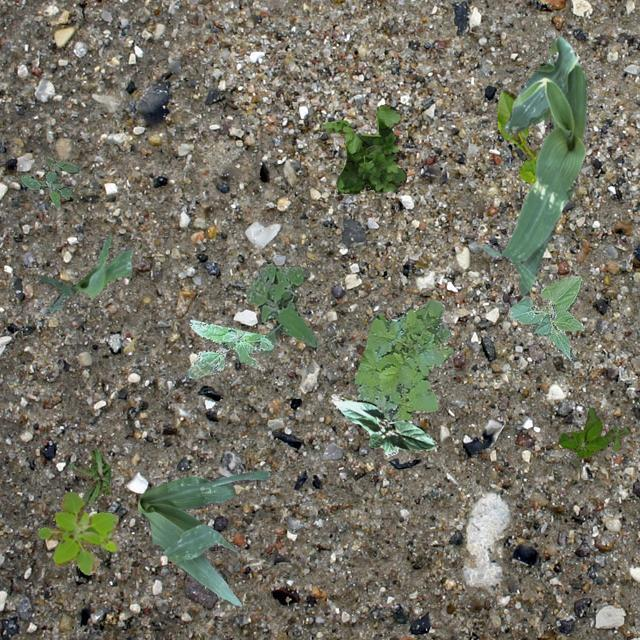crop: (480, 36, 588, 294), (136, 469, 268, 606), (38, 232, 130, 312), (506, 274, 584, 360), (331, 392, 434, 456), (496, 90, 536, 184)
weed: (354, 298, 452, 420), (322, 102, 406, 194), (36, 489, 118, 574), (244, 260, 316, 356), (185, 318, 272, 378), (556, 406, 628, 456), (21, 156, 78, 207), (70, 448, 110, 506)
